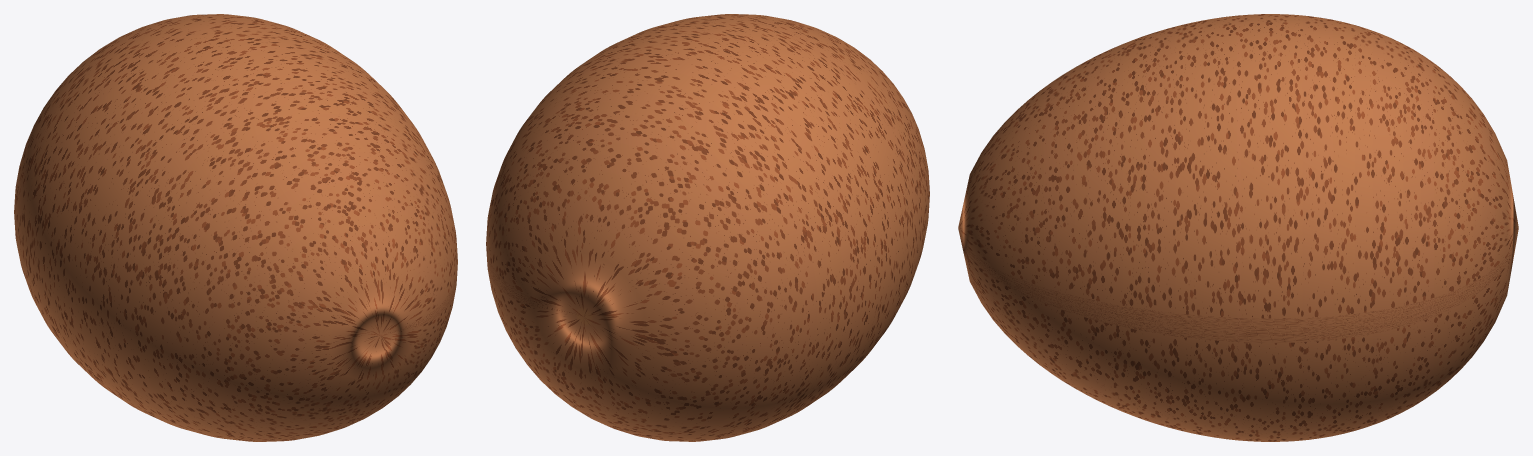
File: egg_brown.obj
3 renders of one model, left to right at view 1: azimuth 30°, elevation 25°; view 2: azimuth 150°, elevation 25°; view 3: azimuth 270°, elevation 25°, orthographic. The views are drawn at different scales.
Size of the model in its own units: 0.0443 by 0.0443 by 0.058.
Materials: 1 (1 with a texture image).
